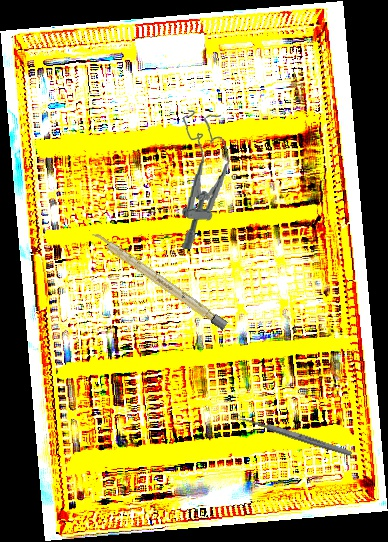Scalpel Handle: (89, 229, 229, 331)
Speculum: (171, 109, 234, 252)
Surgical Spoon: (231, 411, 353, 458)
